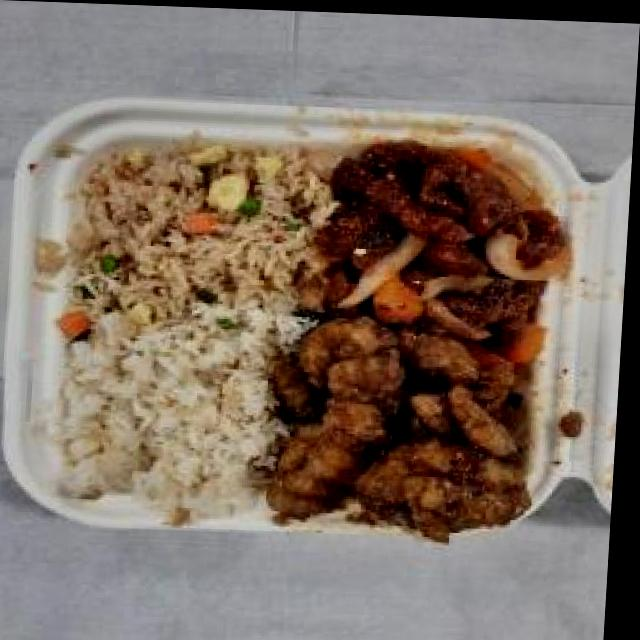Beijing Beef: (305, 134, 584, 340)
Fried Rice: (88, 138, 320, 324)
The Original Orange Chicken: (259, 308, 552, 541)
White Steamed Rice: (47, 317, 295, 509)
